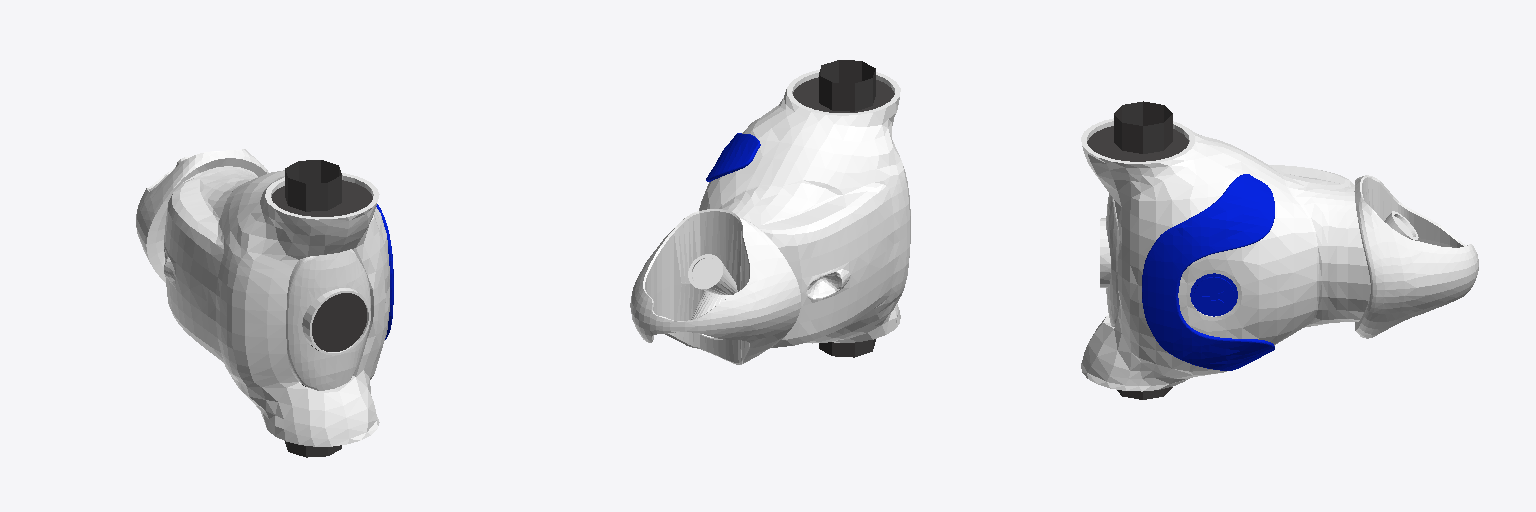
The picture shows the model from 3 angles: view 1: azimuth 30°, elevation 25°; view 2: azimuth 150°, elevation 25°; view 3: azimuth 270°, elevation 25°; orthographic projection.
Parts seen in each view (by area): view 1: Torso_Chest; view 2: Torso_Chest; view 3: Torso_Chest.
Part boxes in pixels (bbox=[...]): Torso_Chest: bbox=[136, 149, 393, 457]; Torso_Chest: bbox=[630, 60, 910, 364]; Torso_Chest: bbox=[1081, 101, 1478, 399].
Bounding box in the file's own units: 1.12 × 1.74 × 2.29.
1 materials, 1 textured.